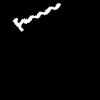half_double_crochet: (13, 4, 60, 30)
